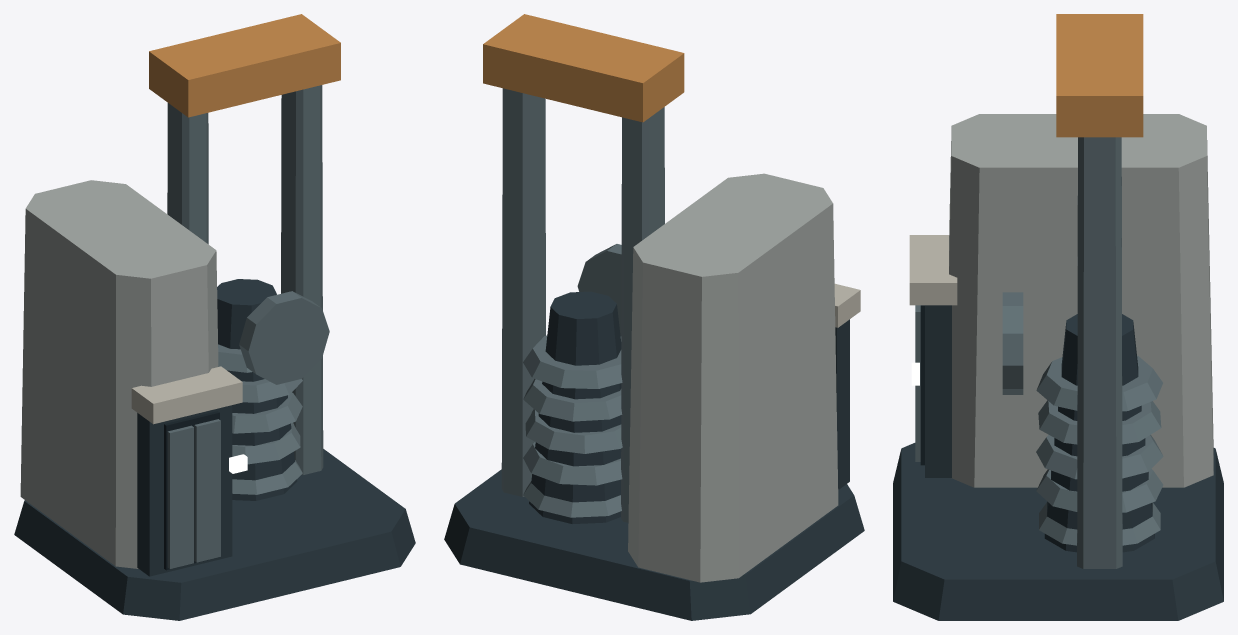
Rendered from mine_t3.glb.
3 renders of one model, left to right at view 1: azimuth 30°, elevation 25°; view 2: azimuth 150°, elevation 25°; view 3: azimuth 270°, elevation 25°, orthographic. The views are drawn at different scales.
Parts seen in each view (by area): view 1: body, part_rotor; view 2: body, part_rotor; view 3: body, part_rotor.
Part boxes in pixels (x1,y1,x2,y2): body: (14,14,415,620); part_rotor: (239,291,329,384); body: (444,14,864,620); part_rotor: (577,244,621,335); body: (893,14,1223,620); part_rotor: (1002,292,1023,394).
Bounding box in the file's own units: 1.8 × 2.74 × 1.6.
